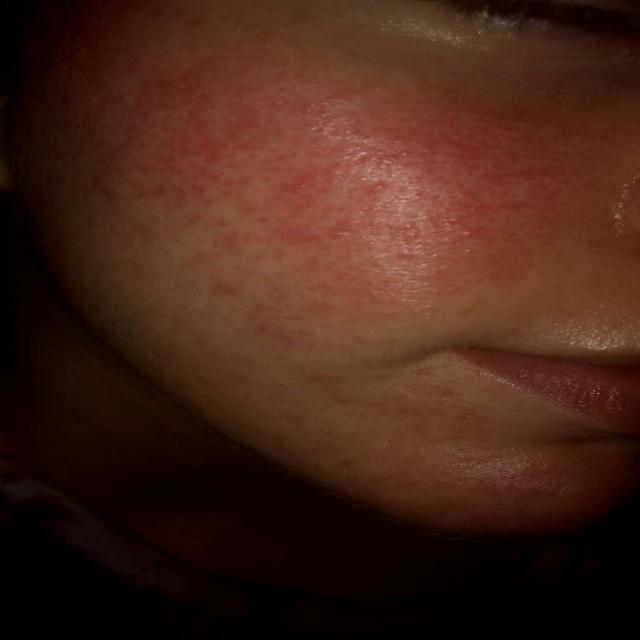Rosacea: (54, 13, 604, 313)
